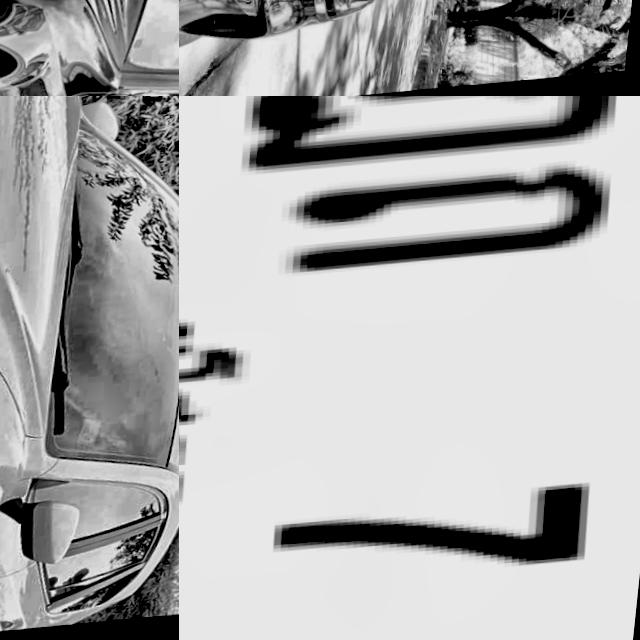license-plate: (179, 96, 640, 640)
